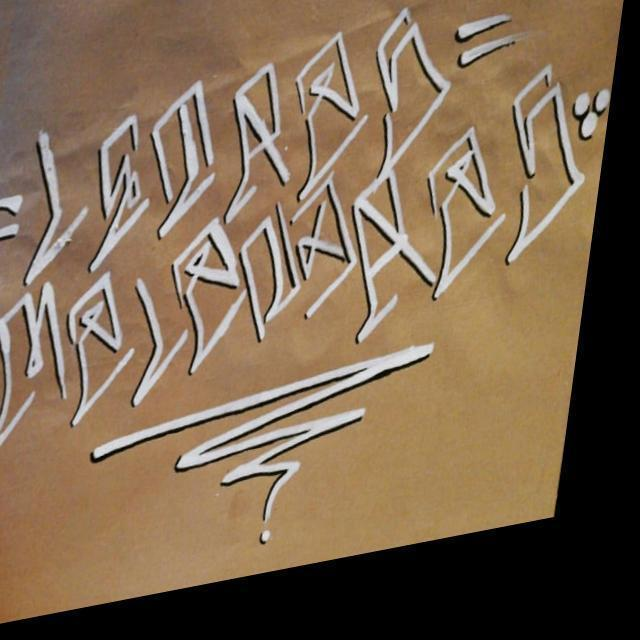nonspitting: (0, 4, 608, 549)
